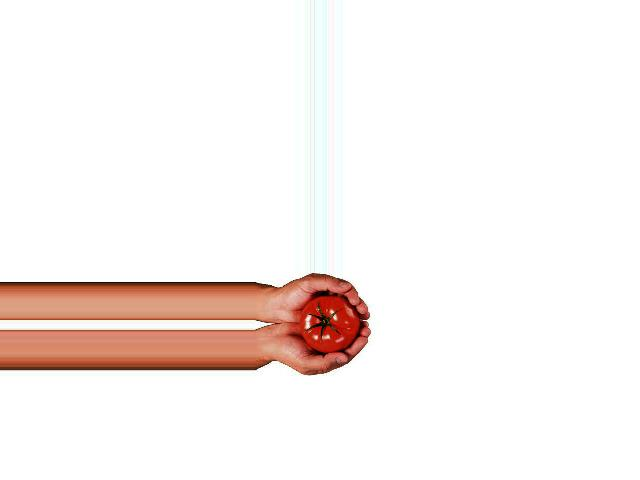tomato: (300, 295, 359, 353)
